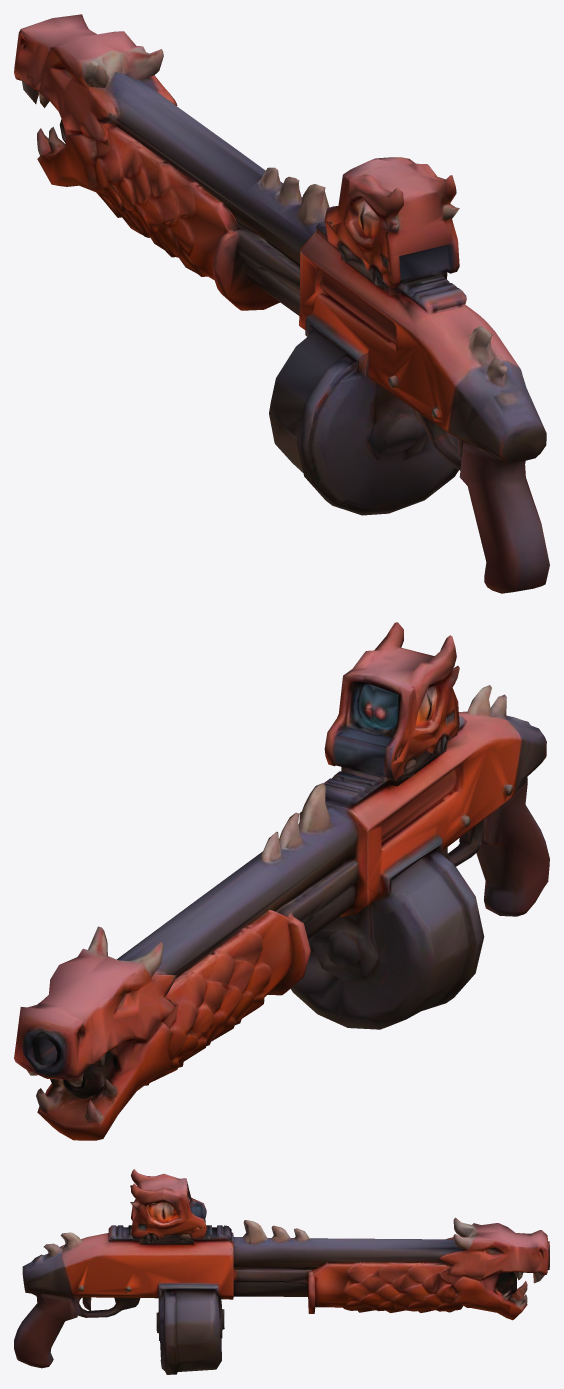
The model's file is s_dragon.glb.
The picture shows the model from 3 angles, top to bottom: view 1: azimuth 30°, elevation 25°; view 2: azimuth 150°, elevation 25°; view 3: azimuth 270°, elevation 25°; orthographic projection. The views are drawn at different scales.
Parts seen in each view (by area): view 1: node_0; view 2: node_0; view 3: node_0.
Boxes of the visible parts, x1,y1,x2,y2 form: node_0: (14,14,549,593); node_0: (14,622,549,1140); node_0: (14,1169,549,1374).
Bounding box in the file's own units: 0.2708 × 0.5106 × 1.28.
Materials: 1 (1 with a texture image).
